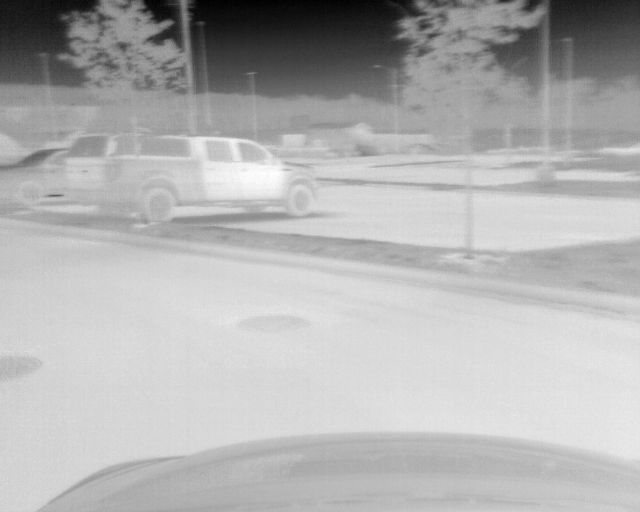car: (67, 135, 315, 217), (1, 147, 69, 205)
